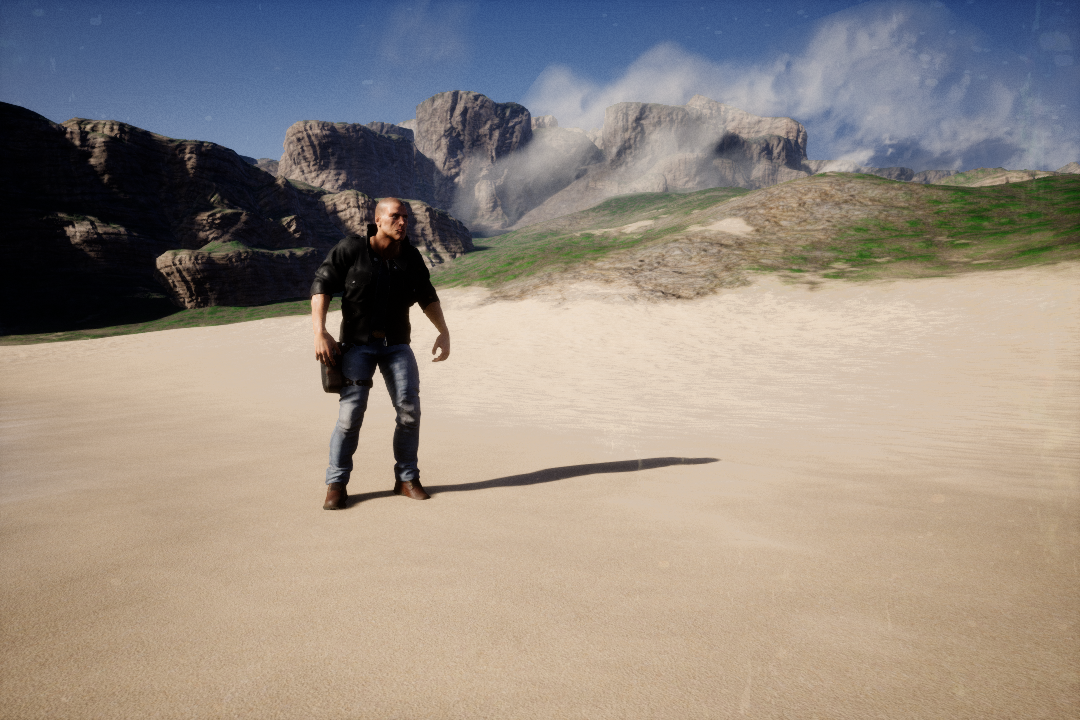person: (294, 203, 461, 510)
